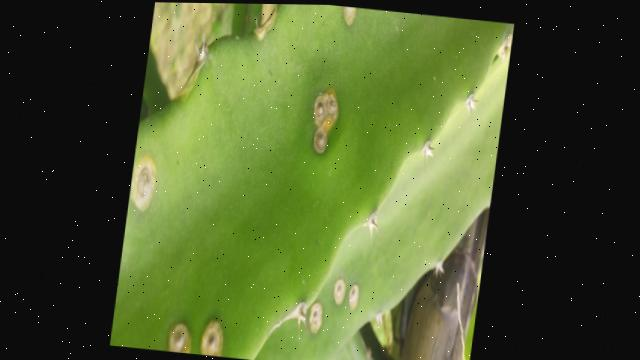stemcanker: (128, 150, 162, 213), (199, 320, 227, 360), (165, 322, 195, 356), (303, 301, 327, 337), (329, 278, 349, 308), (346, 281, 363, 315)
